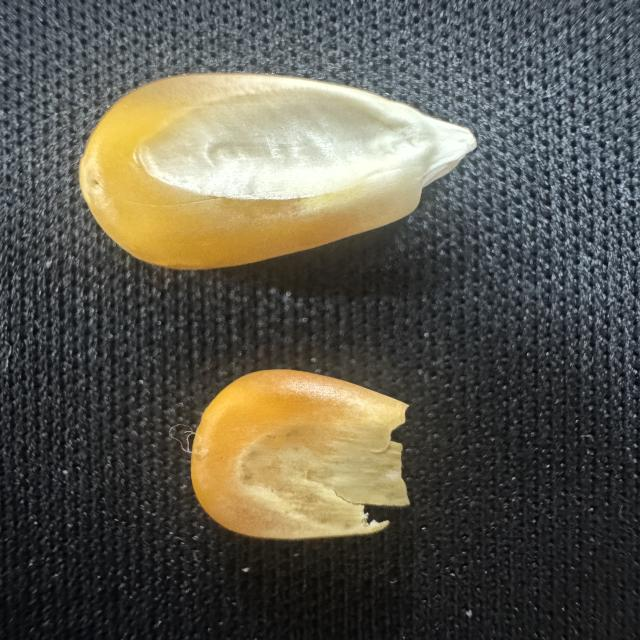Bad-Seed: (172, 362, 428, 559)
Good-Seed: (72, 64, 487, 278)
